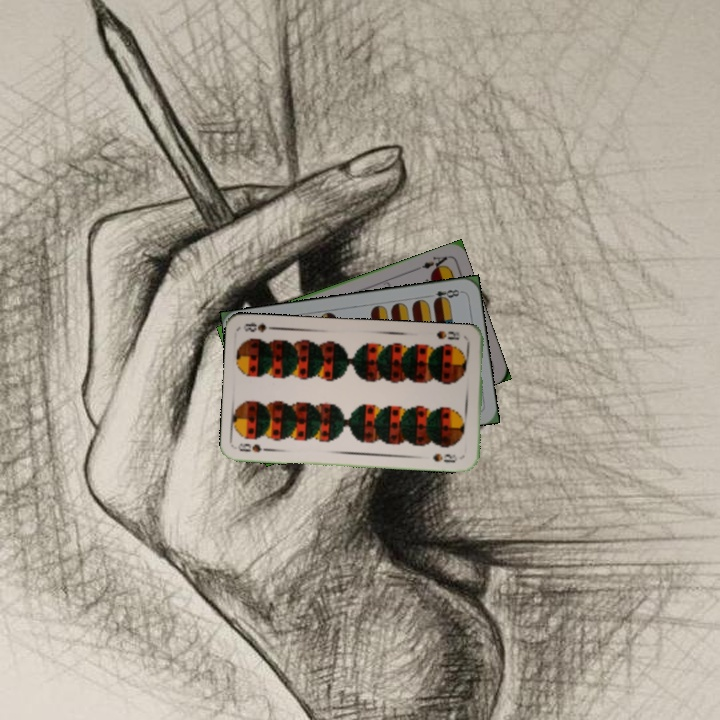E8: (430, 285, 464, 305)
EA: (412, 252, 450, 274)
S8: (234, 439, 275, 455), (433, 327, 462, 342)
